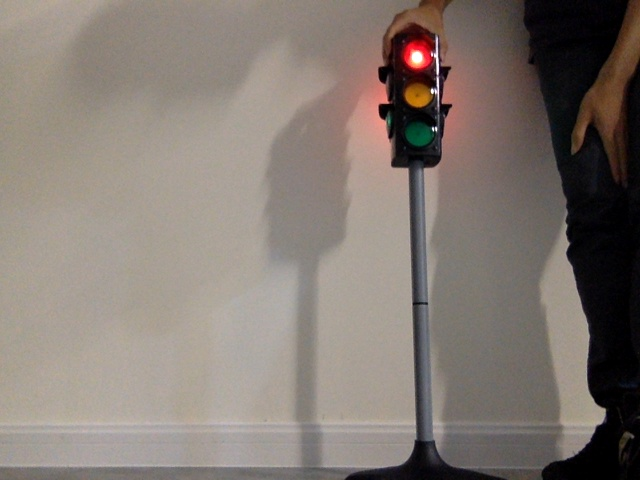red: (395, 42, 435, 151)
